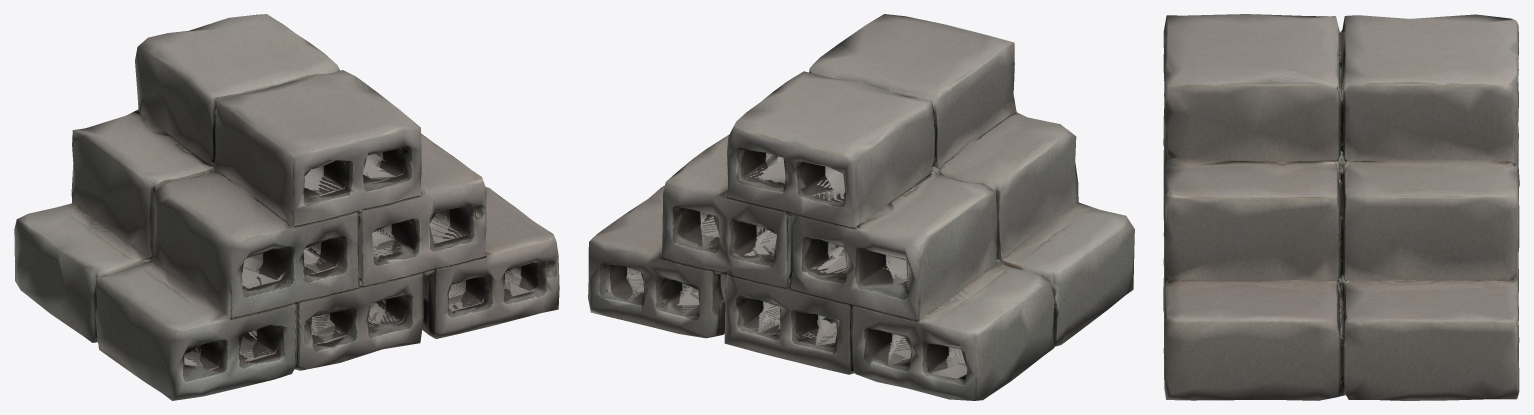
Rendered from Prop_BlockPile.fbx.
3 renders of one model, left to right at view 1: azimuth 30°, elevation 25°; view 2: azimuth 150°, elevation 25°; view 3: azimuth 270°, elevation 25°, orthographic. The views are drawn at different scales.
Visible parts, largest first — view 1: texture_mapping; view 2: texture_mapping; view 3: texture_mapping.
Part boxes in pixels (box(x1,y1,x2,y2)): texture_mapping: box(14, 14, 559, 400); texture_mapping: box(588, 14, 1134, 400); texture_mapping: box(1163, 14, 1519, 400).
Bounding box in the file's own units: 99.87 × 54.22 × 71.37.
Materials: 1 (1 with a texture image).
